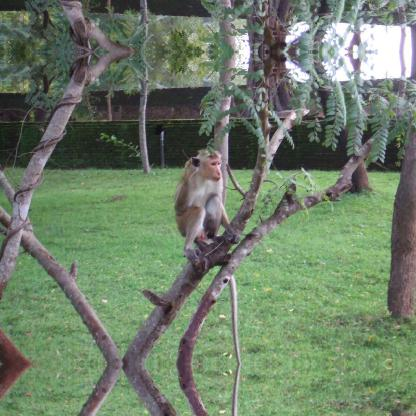Monkey: (174, 148, 240, 258)
